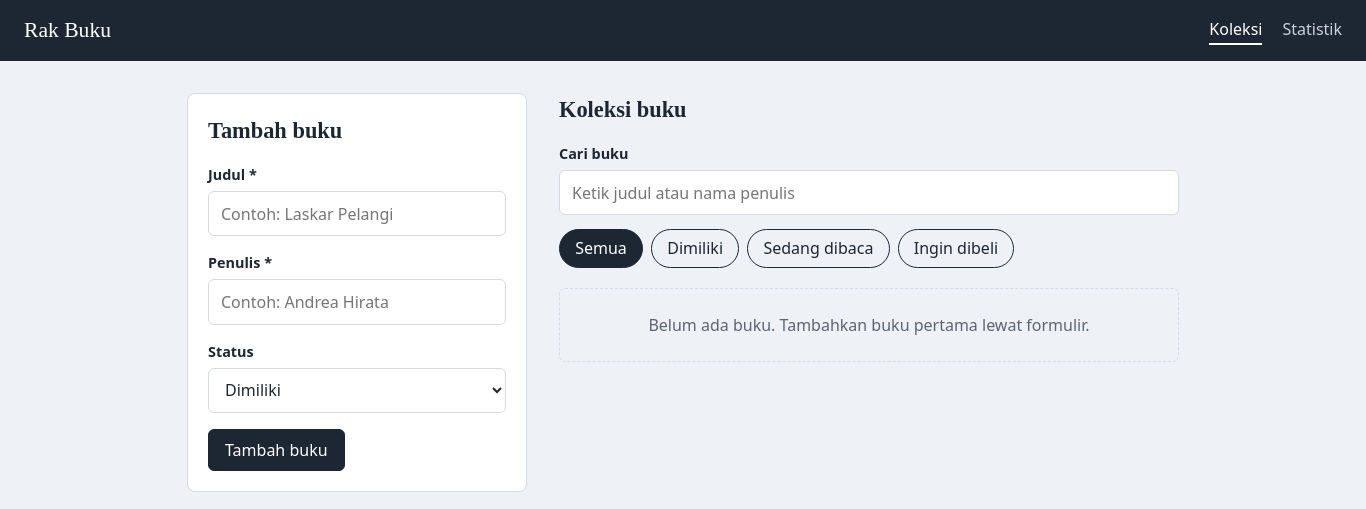
Scenario: Aplikasi Rak Buku (integrasi) › mengedit buku
Type "Judul Lama" into the field labelled "Judul *". click: point(357, 214)
box: [208,191,506,236]
Type "Penulis A" into the field labelled "Penulis *". click: point(357, 302)
box: [208,279,506,325]
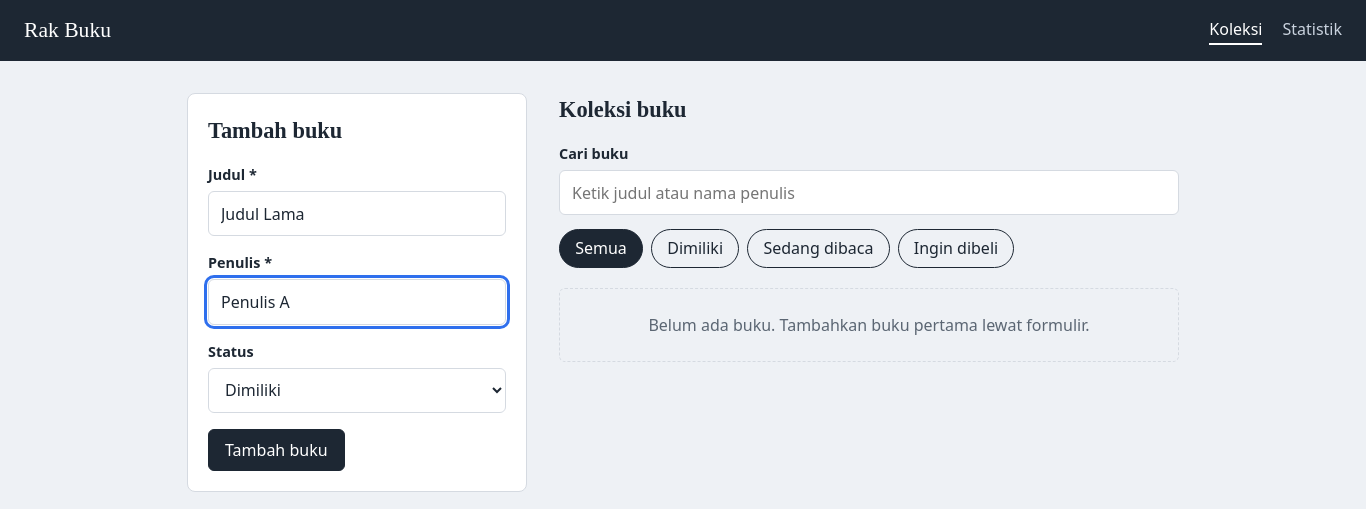
Select "Dimiliki" in the dropdown labelled "Status". click: point(357, 390)
box: [208,368,506,413]
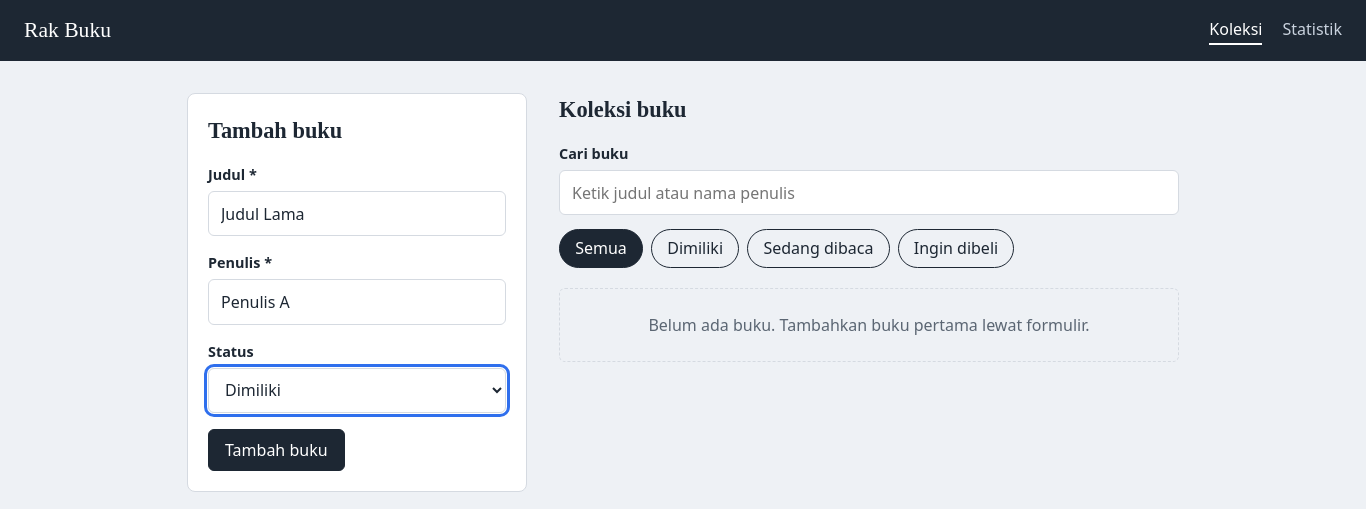
Click the button "Tambah buku". click: point(276, 450)
box: [208,429,345,471]
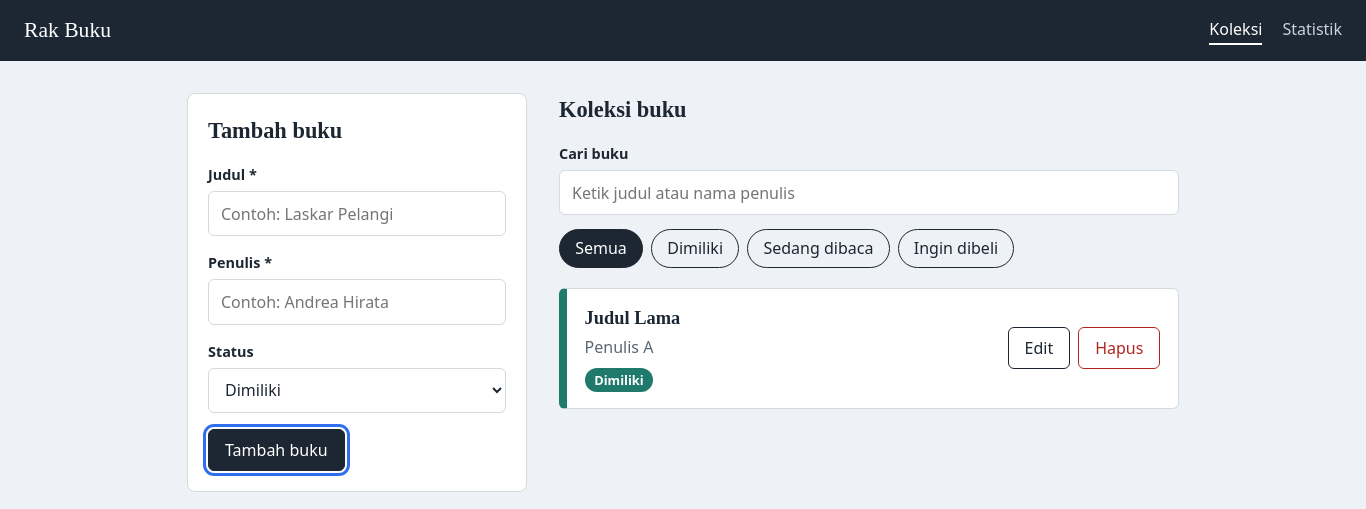
Click the button with aria-label "Edit Judul Lama". click: point(1039, 348)
box: [1008,327,1070,369]
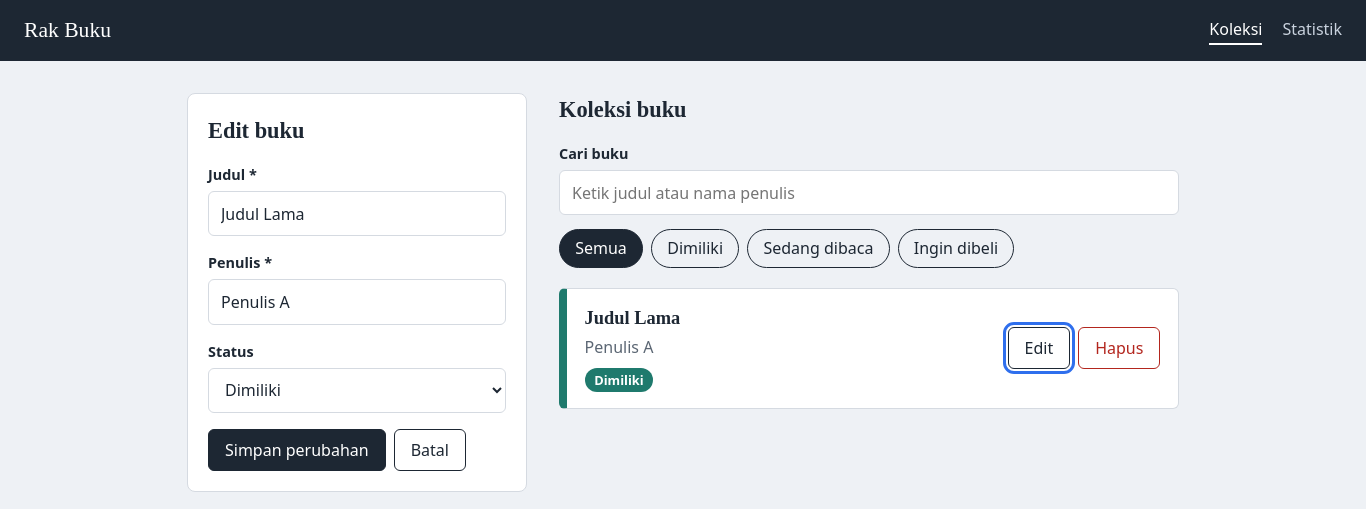
Expected: the field labelled "Judul *" holds "Judul Lama"
Replace the text in the field labelled "Judul *" with "Judul Baru". click: point(357, 214)
box: [208,191,506,236]
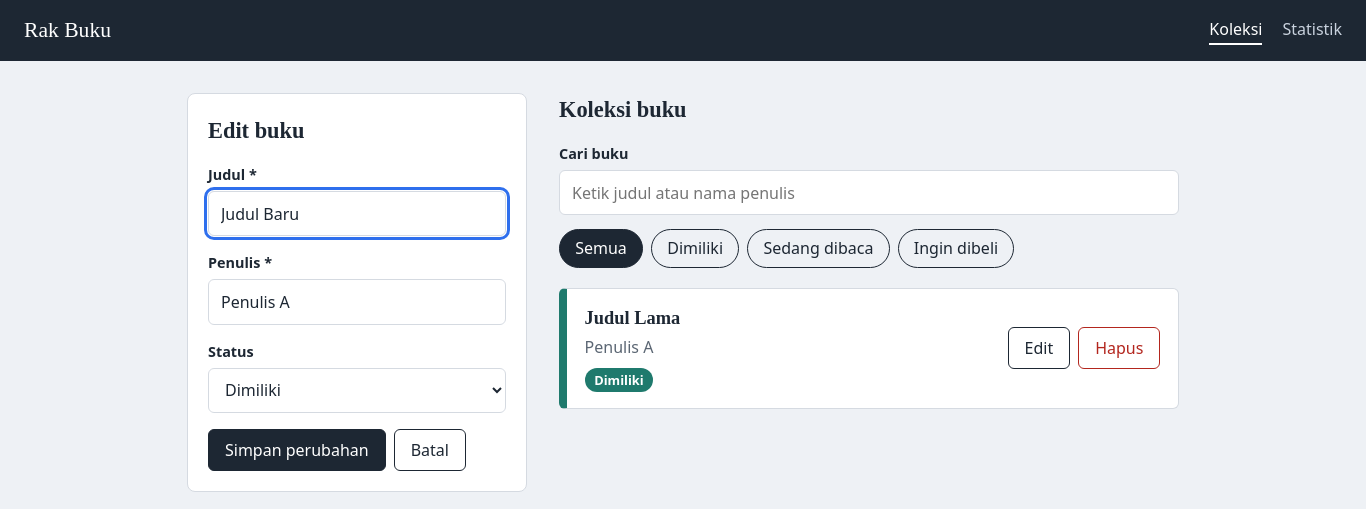
Click the button "Simpan perubahan". click: point(297, 450)
box: [208,429,386,471]
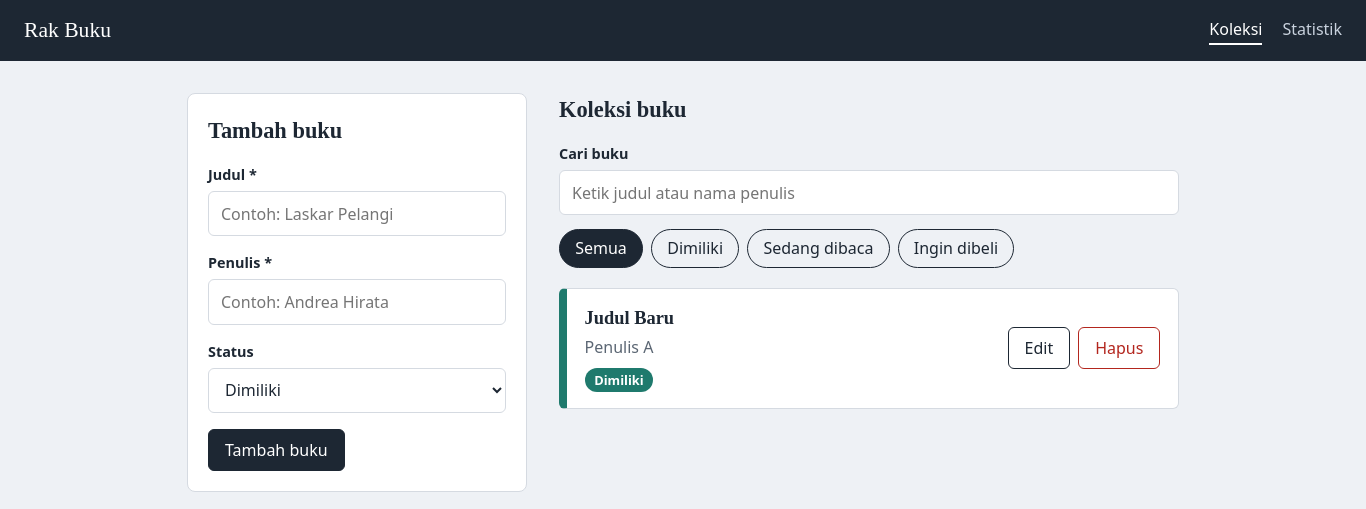
Expected: the heading "Judul Baru" is shown, [585,304,674,332]
Expected: the heading "Judul Lama" is gone
